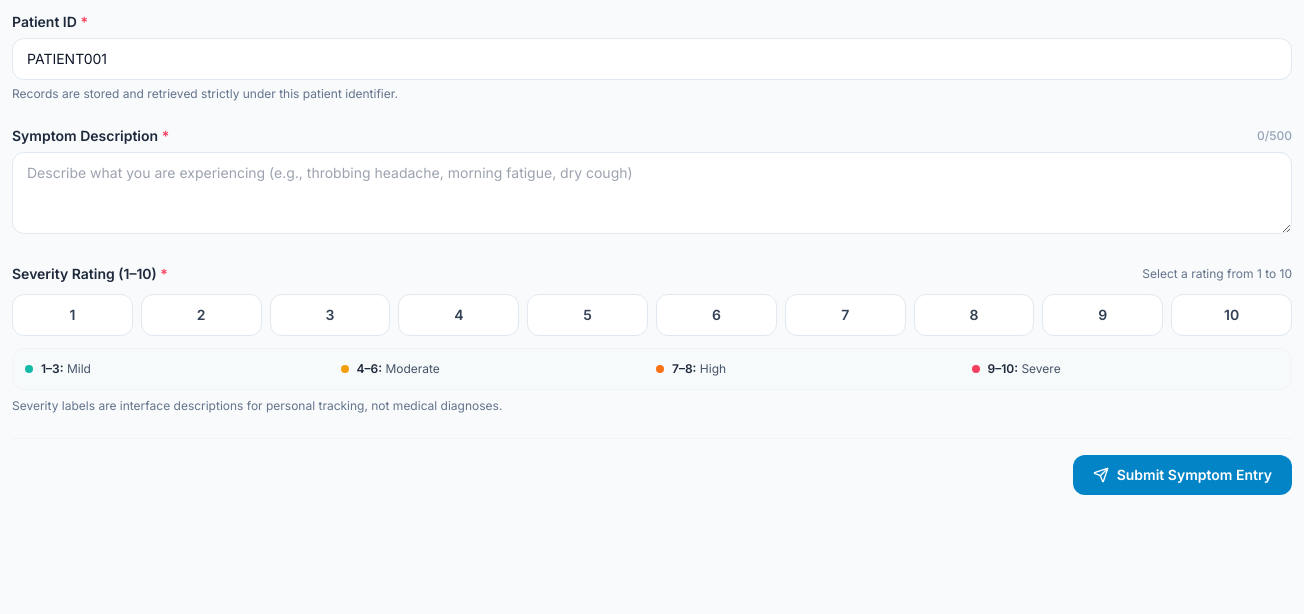
Test: SymptomForm › displays API failure feedback when submission fails
The width and height of the screenshot is (1304, 614).
In the text box labelled "Symptom Description *": (652, 193) [12,152,1292,234], type "Moderate dizziness"
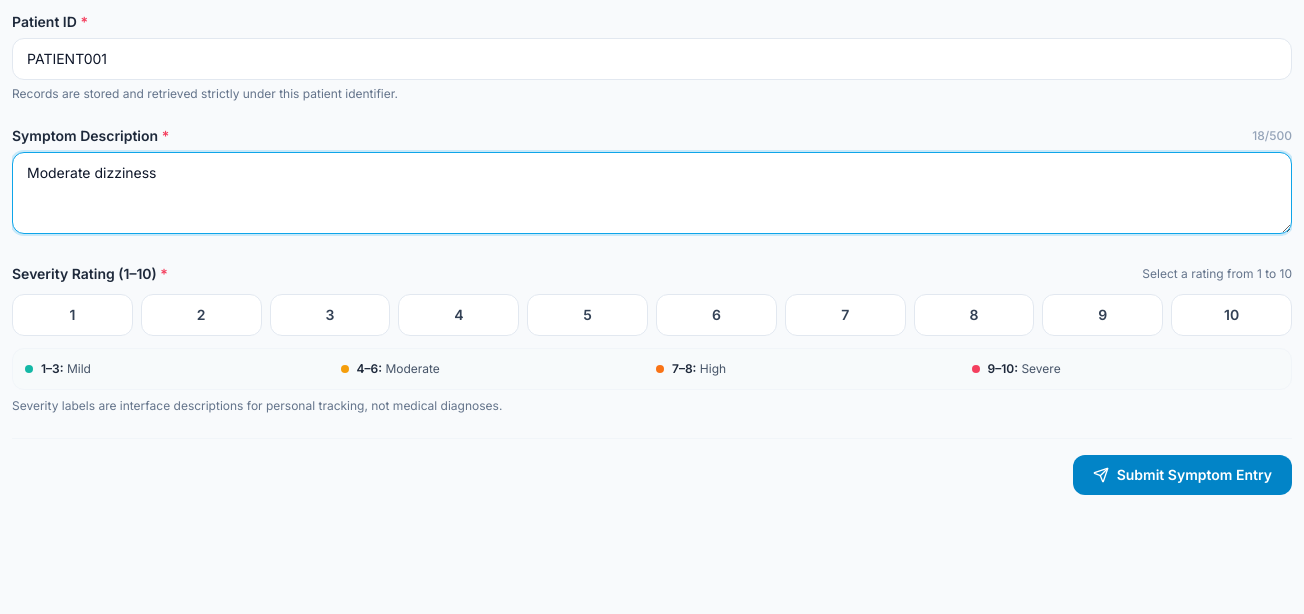
Click the radio button named "Severity 5 (Moderate)": (588, 315) [527,294,648,336]
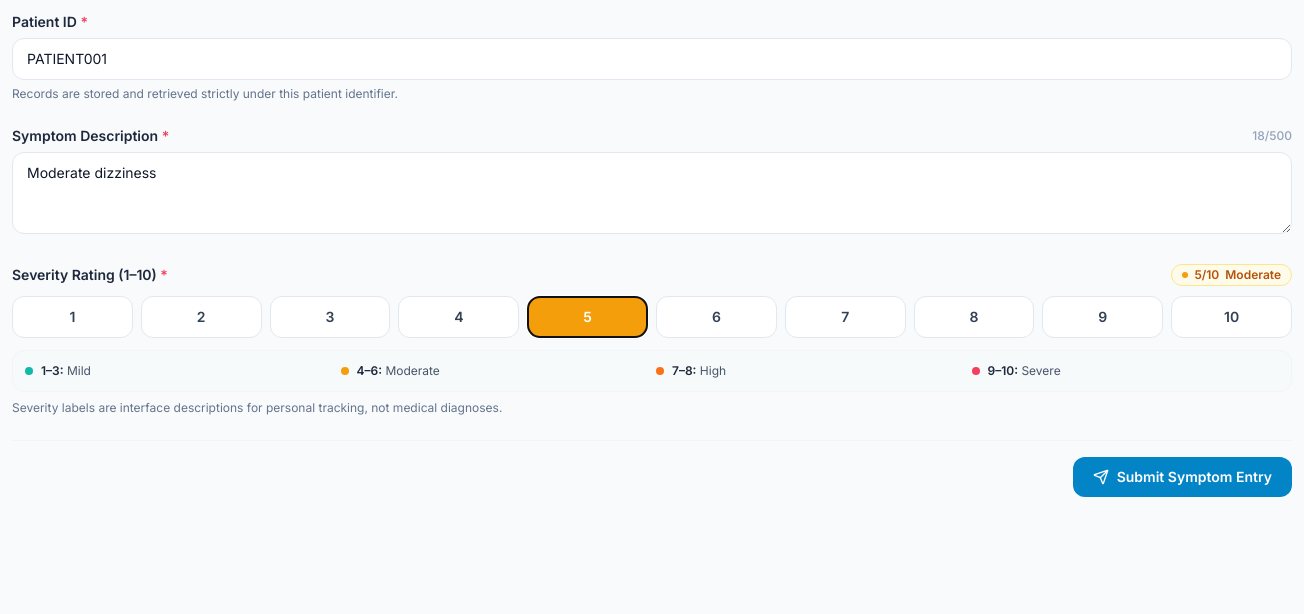
Click the button "Submit Symptom Entry": (1182, 477) [1073,457,1292,497]
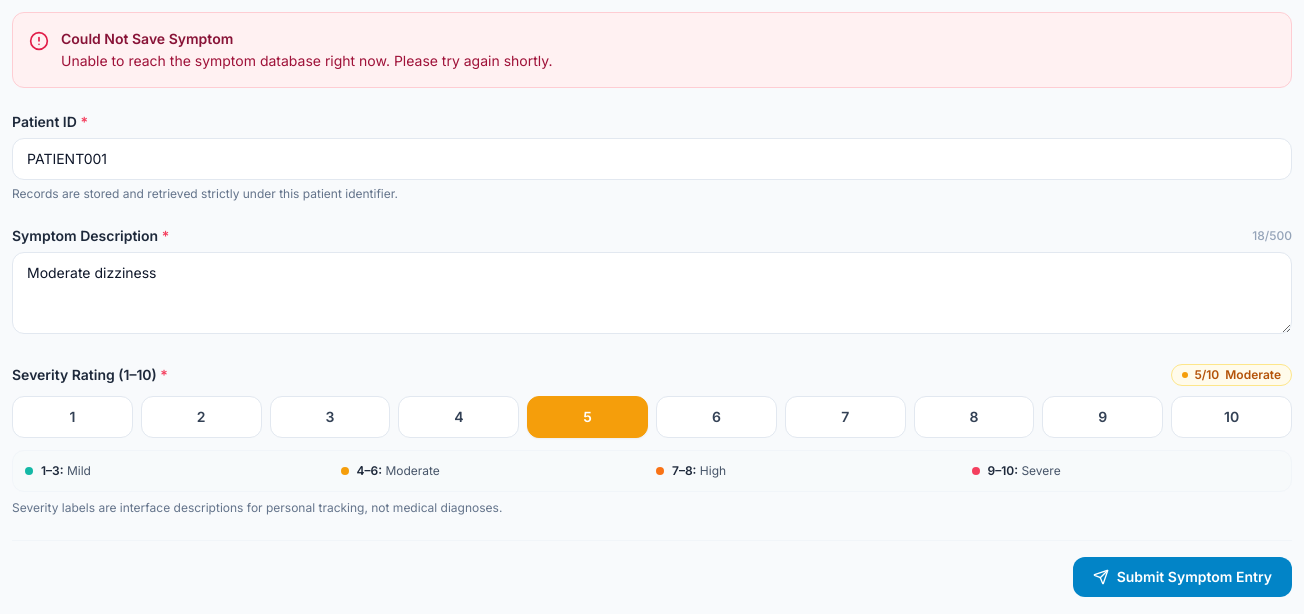
Expected: the message shows "Unable to reach the symptom database right now. Please try again shortly.", [61,52,552,69]
